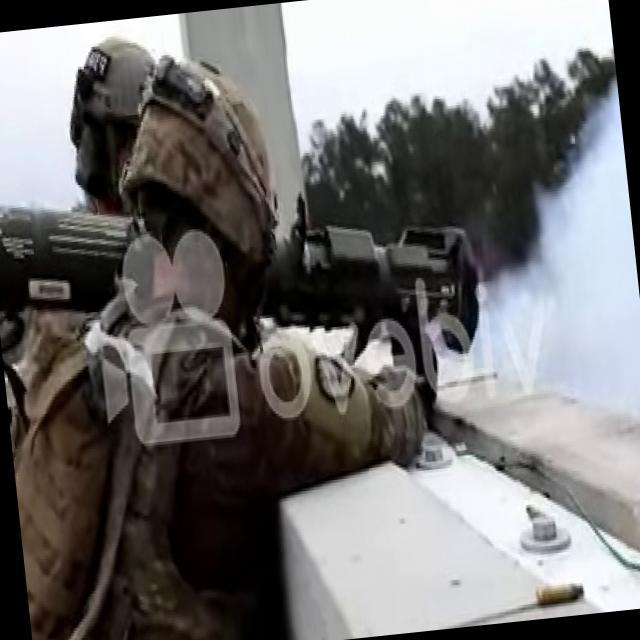rocket: (0, 165, 484, 393)
